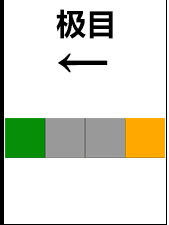arrow: (54, 48, 113, 77)
